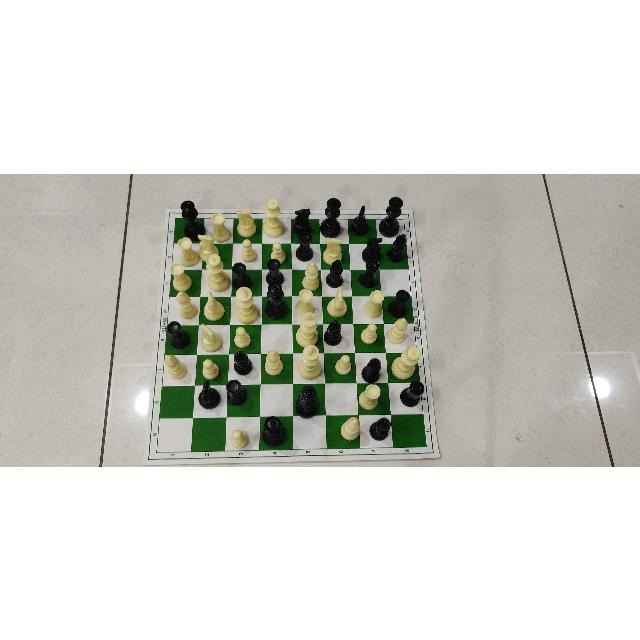black-bishop: (386, 231, 410, 264), (325, 257, 344, 287), (367, 417, 391, 440), (361, 355, 381, 382), (323, 319, 343, 343), (232, 346, 249, 374)
black-king: (320, 196, 344, 234), (380, 195, 404, 231), (296, 384, 320, 418)
black-knight: (349, 204, 369, 234), (196, 382, 220, 407), (362, 235, 385, 258), (294, 207, 312, 231)
black-queen: (176, 198, 200, 233), (261, 417, 288, 447), (264, 284, 287, 318)
black-rook: (399, 381, 426, 407), (165, 320, 188, 350), (358, 259, 383, 284), (224, 377, 248, 403), (389, 289, 413, 313), (294, 233, 315, 258), (232, 260, 250, 285), (266, 260, 286, 282)
white-bishop: (387, 316, 411, 346), (338, 414, 362, 442), (261, 349, 281, 380), (165, 351, 187, 379), (174, 290, 196, 316), (301, 261, 320, 287)
white-king: (294, 346, 323, 380), (232, 287, 255, 324), (292, 311, 317, 344)
white-knight: (199, 321, 224, 350), (203, 291, 226, 319), (326, 286, 346, 315), (235, 208, 255, 234), (197, 233, 220, 253), (321, 236, 345, 254)
white-pawn: (334, 353, 354, 375), (203, 356, 221, 379), (231, 428, 249, 448), (360, 324, 380, 342), (267, 241, 287, 257), (240, 237, 254, 259), (233, 325, 248, 344)
white-queen: (392, 345, 422, 377), (262, 197, 282, 237), (205, 252, 226, 287)
white-rook: (357, 384, 384, 411), (170, 262, 194, 287), (363, 287, 385, 314), (173, 237, 194, 261), (294, 289, 316, 311), (212, 212, 230, 234)
